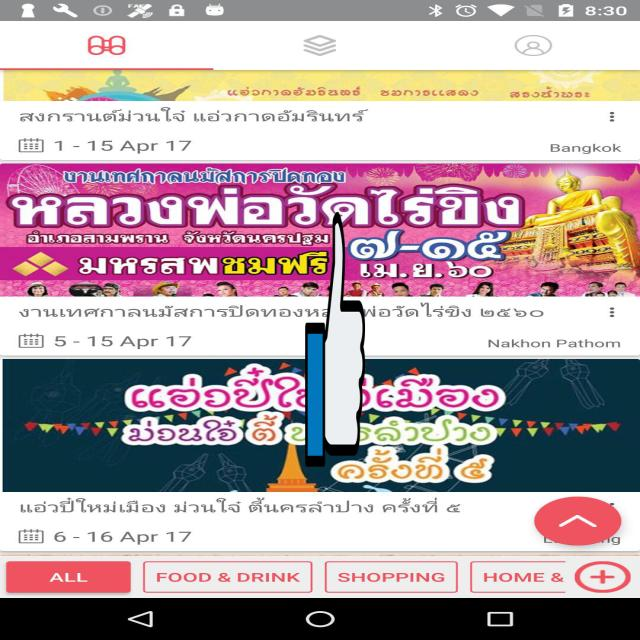privacy zuckering: (305, 207, 365, 472)
